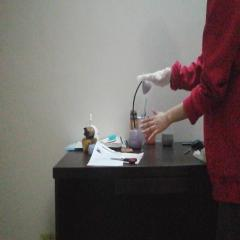gloved: (136, 69, 170, 87)
not-gloved: (141, 110, 171, 144)
